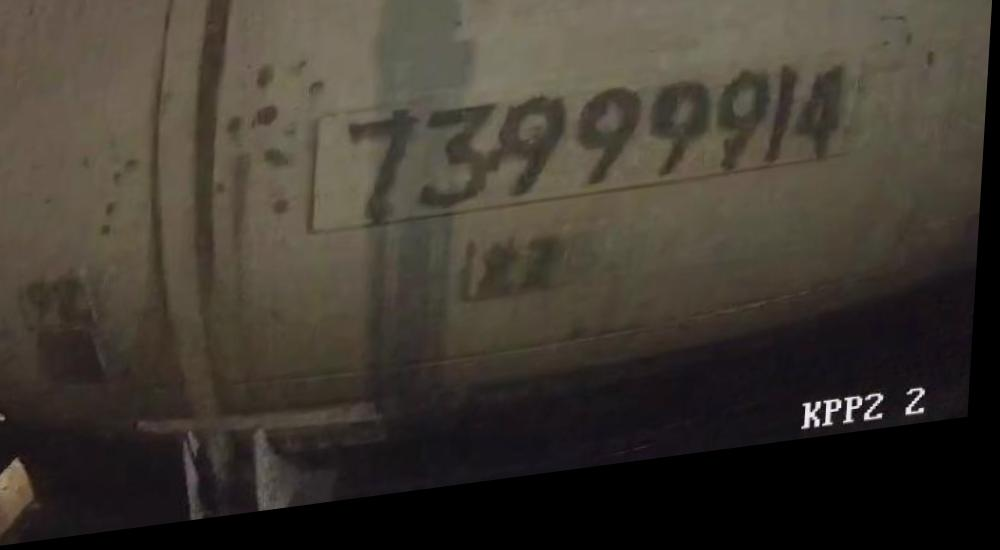Wagon-number: (340, 69, 857, 240)
